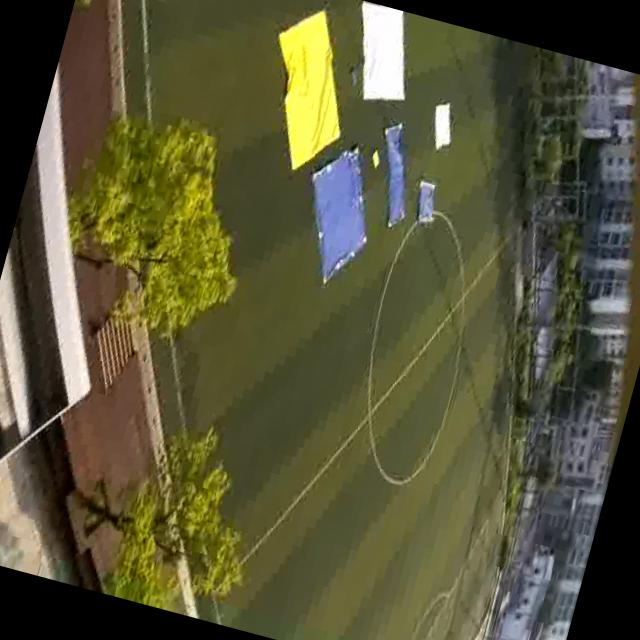danger: (292, 156, 382, 282), (365, 125, 426, 224), (406, 174, 446, 229)
warning: (248, 4, 361, 167), (338, 1, 432, 114), (420, 96, 466, 158)
